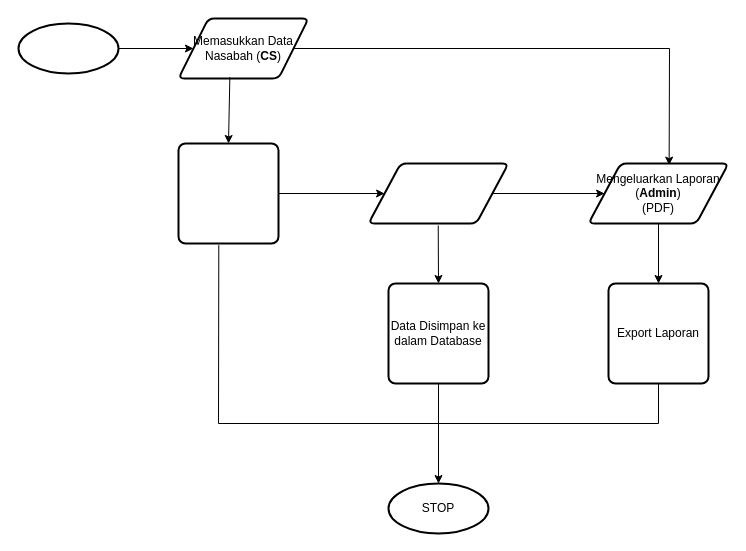
Some shapes in this 746 by 551 pixel diagram are drawn without their labels. Here are the shapes that lost their labels. From the top down, the box of each, then its label:
(17, 22, 119, 74): START
(177, 142, 279, 244): Data Disimpan
(367, 162, 509, 224): Memasukkan Data Transaksi Nasabah ( Teller )
